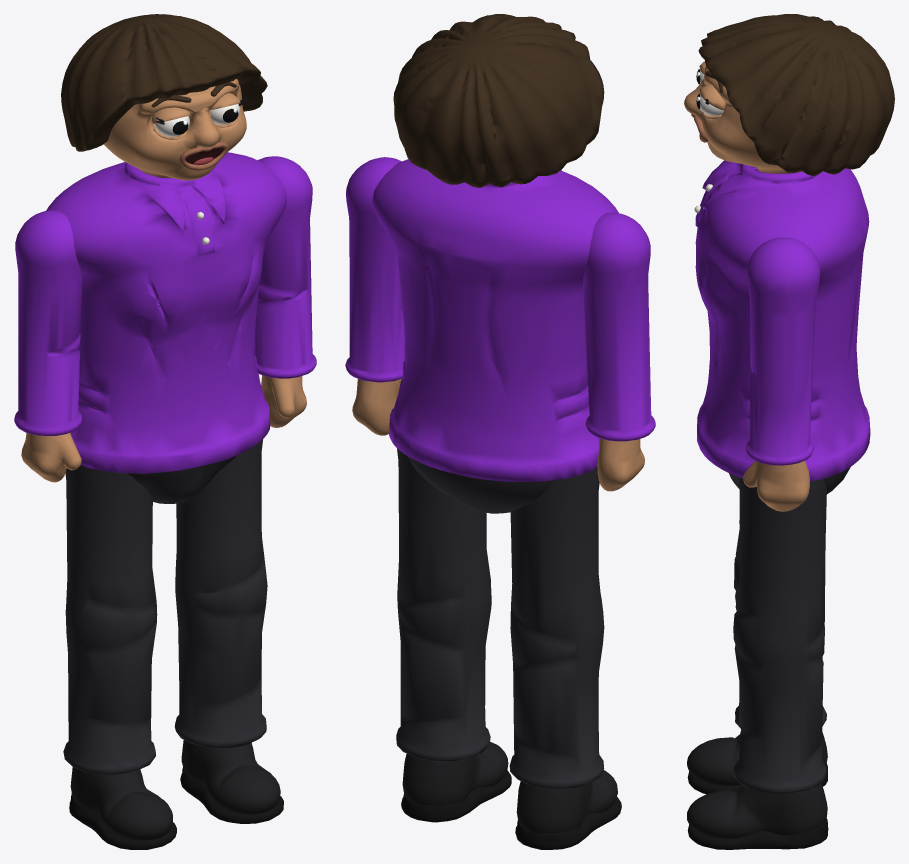
The model's file is liner_3.glb.
The picture shows the model from 3 angles, left to right: view 1: azimuth 30°, elevation 25°; view 2: azimuth 150°, elevation 25°; view 3: azimuth 270°, elevation 25°; orthographic projection. The views are drawn at different scales.
Parts seen in each view (by area): view 1: Body_Mesh, LegR_Mesh, LegL_Mesh, Head_Mesh, ArmR_Mesh, ArmL_Mesh, Mouth; view 2: Body_Mesh, LegR_Mesh, LegL_Mesh, Head_Mesh, ArmR_Mesh, ArmL_Mesh; view 3: Body_Mesh, LegL_Mesh, Head_Mesh, ArmL_Mesh, LegR_Mesh.
Boxes of the visible parts, box(x1,y1,x2,y2) form: Body_Mesh: box(46, 152, 286, 503); LegR_Mesh: box(63, 465, 176, 849); LegL_Mesh: box(174, 439, 283, 823); Head_Mesh: box(61, 14, 267, 180); ArmR_Mesh: box(14, 210, 82, 482); ArmL_Mesh: box(255, 156, 316, 427); Mouth: box(179, 142, 228, 170); Body_Mesh: box(372, 159, 618, 513); LegR_Mesh: box(509, 467, 621, 849); LegL_Mesh: box(396, 448, 511, 822); Head_Mesh: box(393, 14, 604, 187); ArmR_Mesh: box(583, 212, 655, 491); ArmL_Mesh: box(345, 157, 404, 435); Body_Mesh: box(694, 160, 870, 493); LegL_Mesh: box(687, 477, 828, 849); Head_Mesh: box(684, 14, 894, 175); ArmL_Mesh: box(743, 237, 820, 511); LegR_Mesh: box(687, 490, 827, 794).
Size of the model in its own units: 0.646 by 1.63 by 0.3967.
